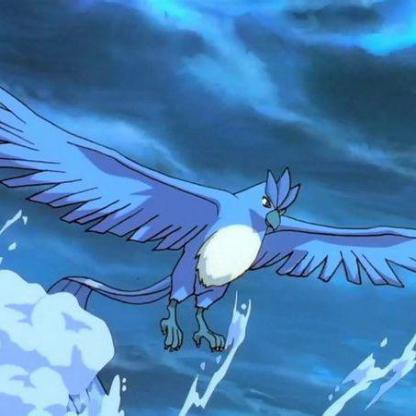Articuno: (1, 6, 416, 416)
